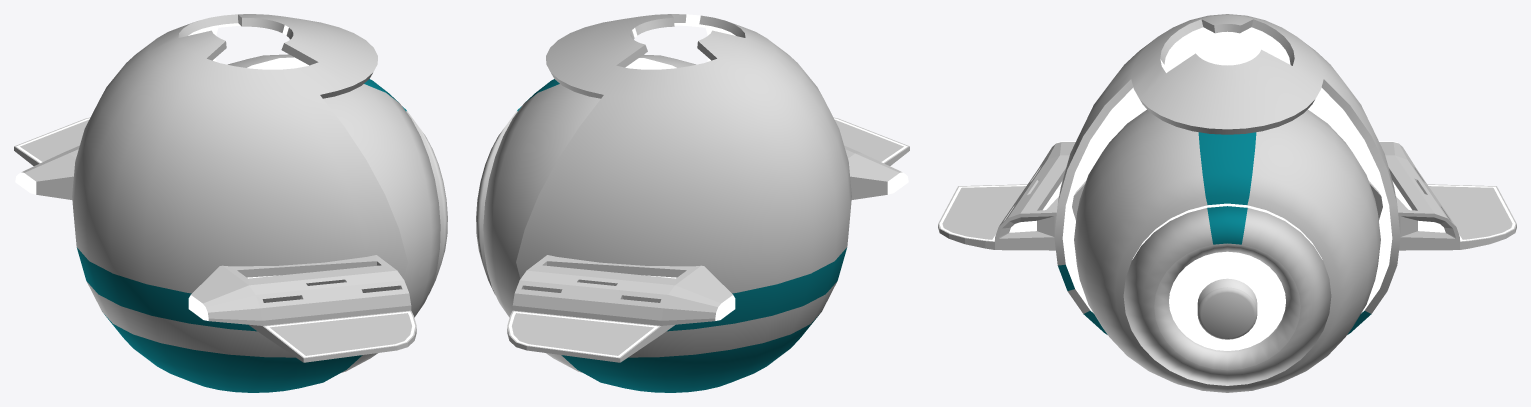
The model's file is Nasa Drone.fbx.
3 views of the same model, side by side, from view 1: azimuth 30°, elevation 25°; view 2: azimuth 150°, elevation 25°; view 3: azimuth 270°, elevation 25° (orthographic). The views are drawn at different scales.
Parts seen in each view (by area): view 1: Plane; view 2: Plane; view 3: Plane.
Boxes of the visible parts, left/top/right/bottom form: Plane: left=14, top=14, right=447, bottom=392; Plane: left=476, top=14, right=909, bottom=392; Plane: left=938, top=14, right=1516, bottom=392.
Bounding box in the file's own units: 237 × 233 × 377.
